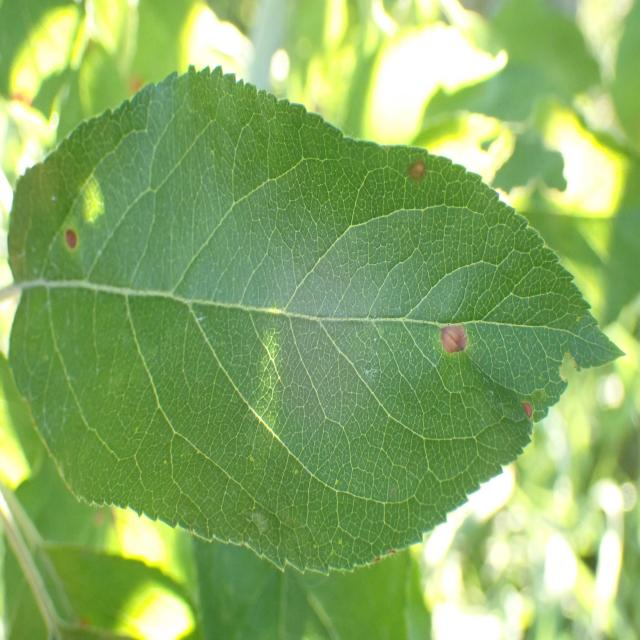Black Rot: (437, 296, 468, 379), (398, 145, 438, 208), (61, 210, 88, 265)
